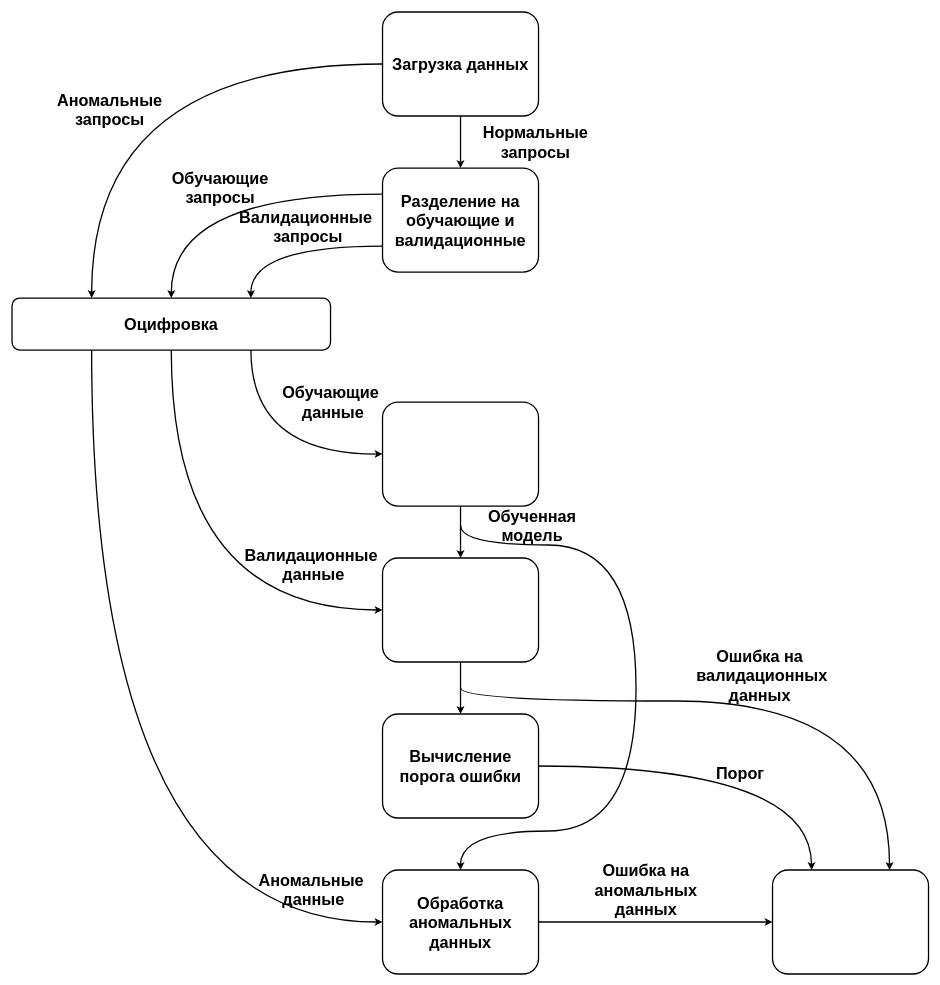
The diagram is 940 pixels wide and 985 high, and some of its shapes have lost their labels. Each missing label, with the centre of its shape:
Обработка валидационных данных: the point at 460,609
Обучение модели: the point at 460,453
Построение гистограммы и вывод отчета: the point at 850,921
